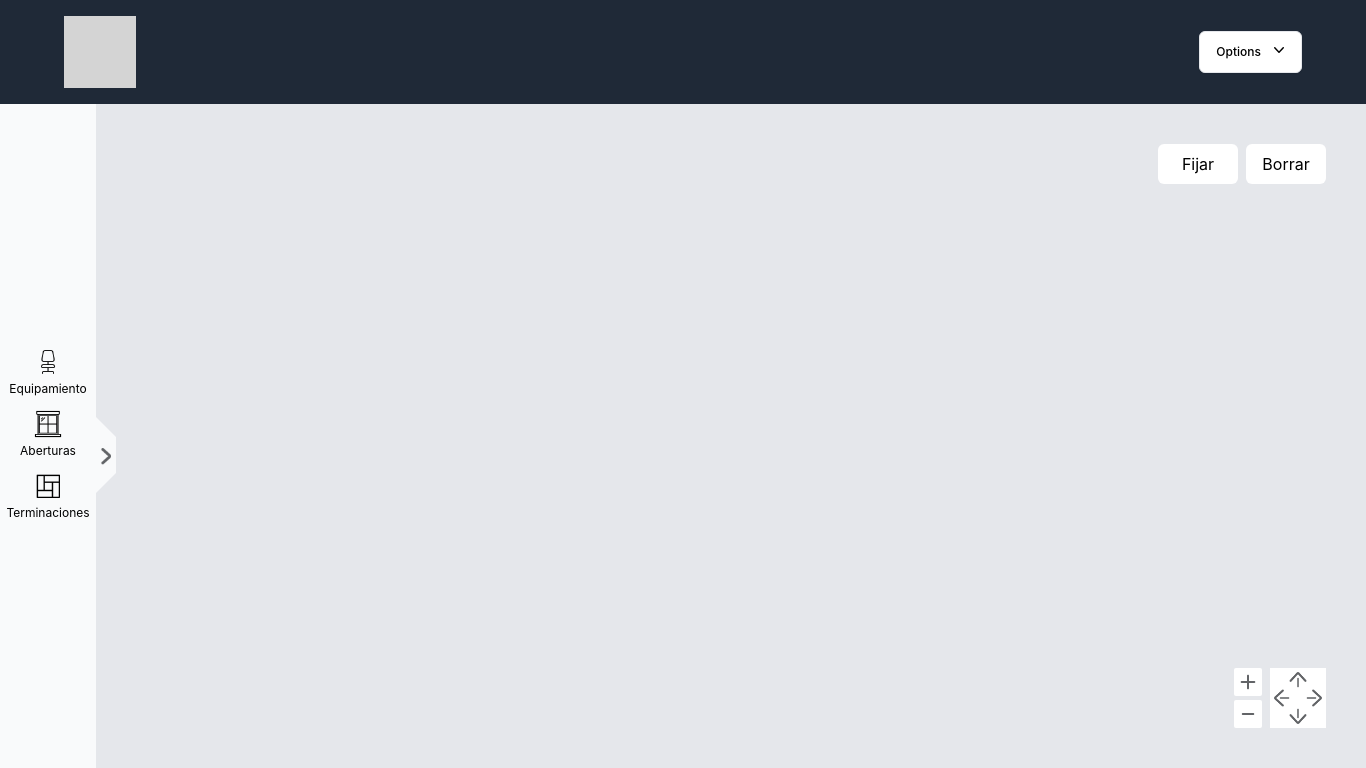
Test: Lightit Challenge › Should render Categories and Sub Categories for Aberturas
Click the element with test id "aberturas" at (48, 434), box [20, 409, 76, 458]
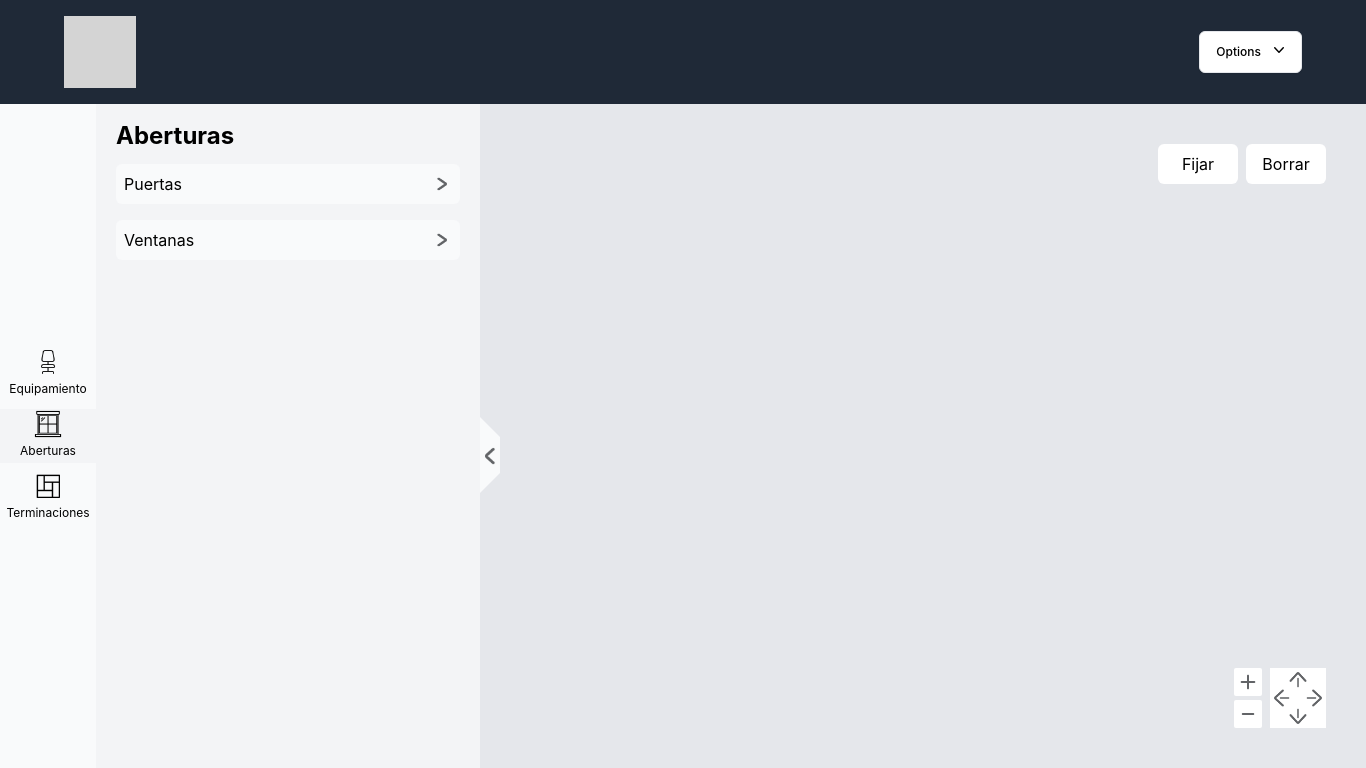
Now the text "Puertas" is shown
Click the text "Puertas" at (153, 184), box [124, 172, 182, 196]
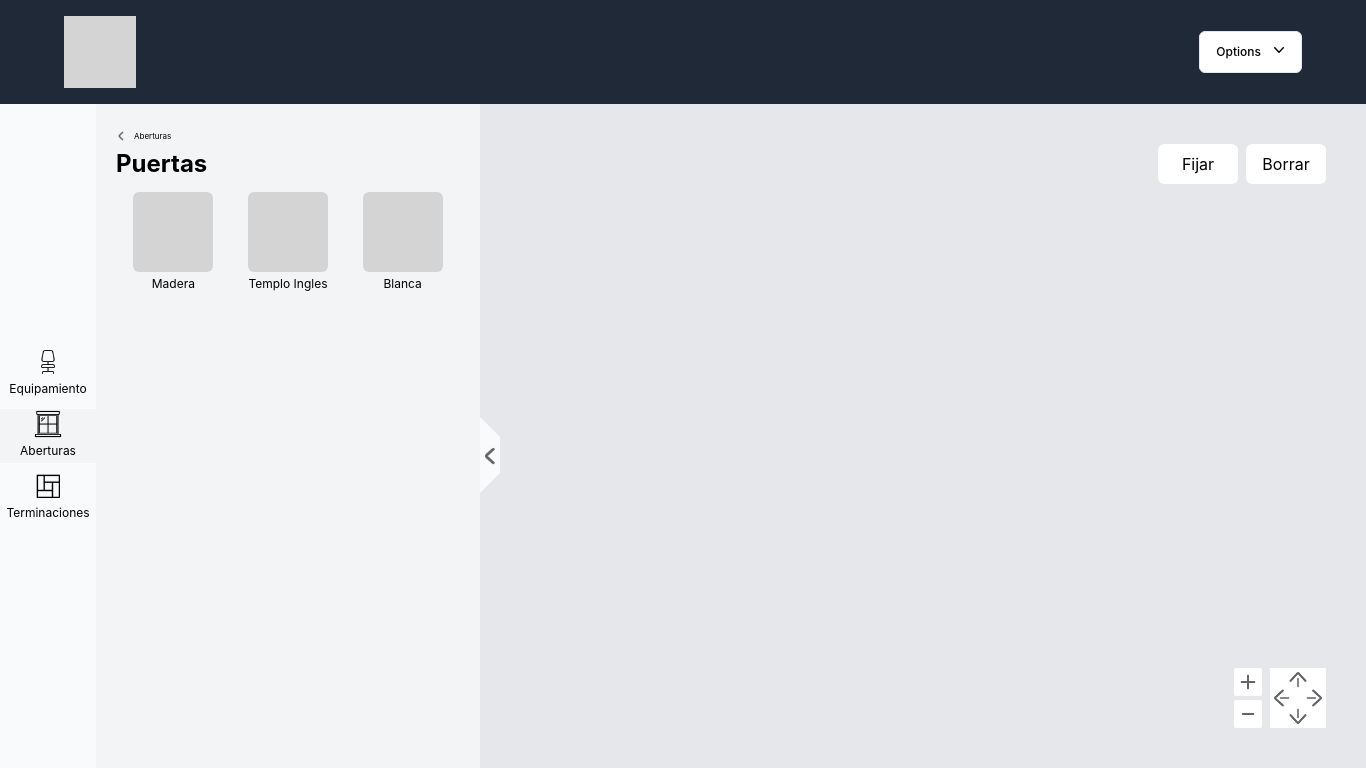
Now the text "Templo Ingles" is shown, box [248, 272, 328, 296]
